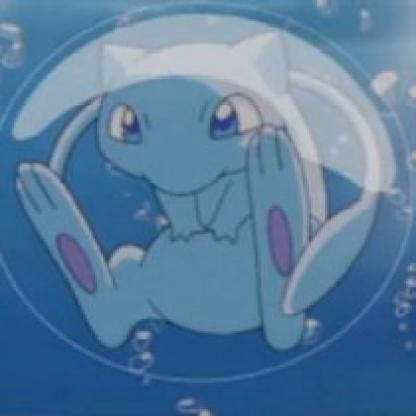Mew: (1, 1, 416, 388)
